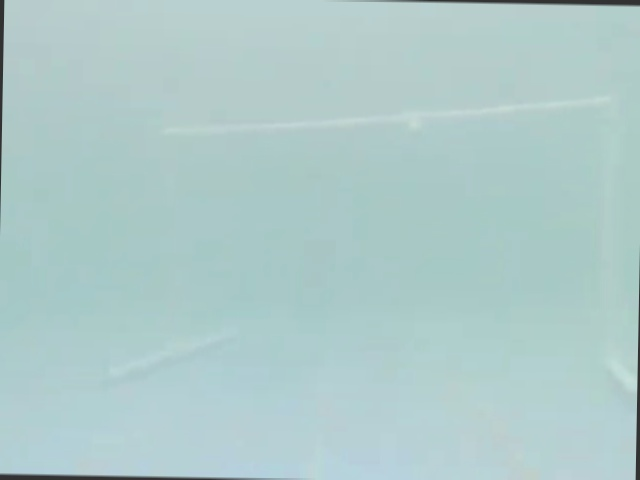gate: (97, 88, 640, 408)
